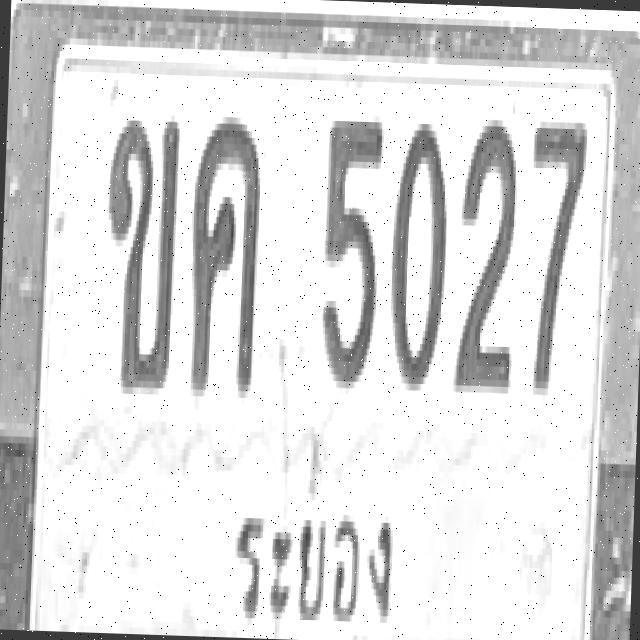0: (385, 116, 450, 391)
11KhorKhai: (100, 112, 180, 388)
13KhorKhwai: (186, 112, 261, 394)
2: (454, 115, 519, 390)
5: (319, 114, 384, 388)
7: (524, 114, 586, 396)
Rayong: (214, 484, 409, 640)
